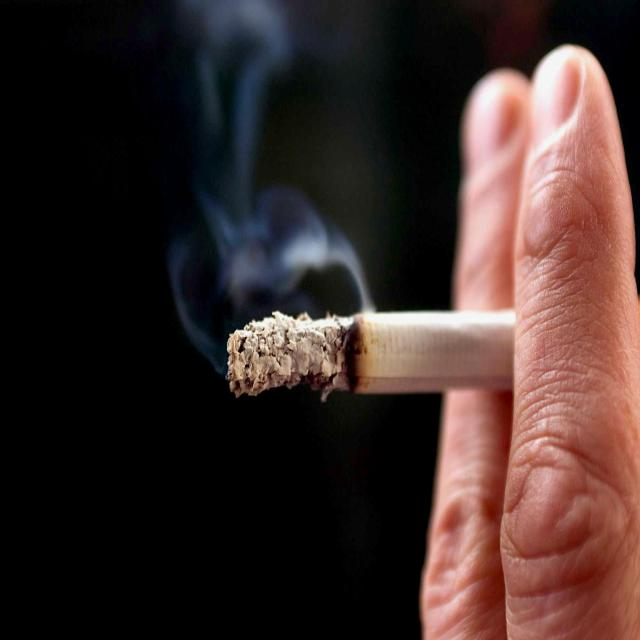smoke: (222, 302, 520, 393)
